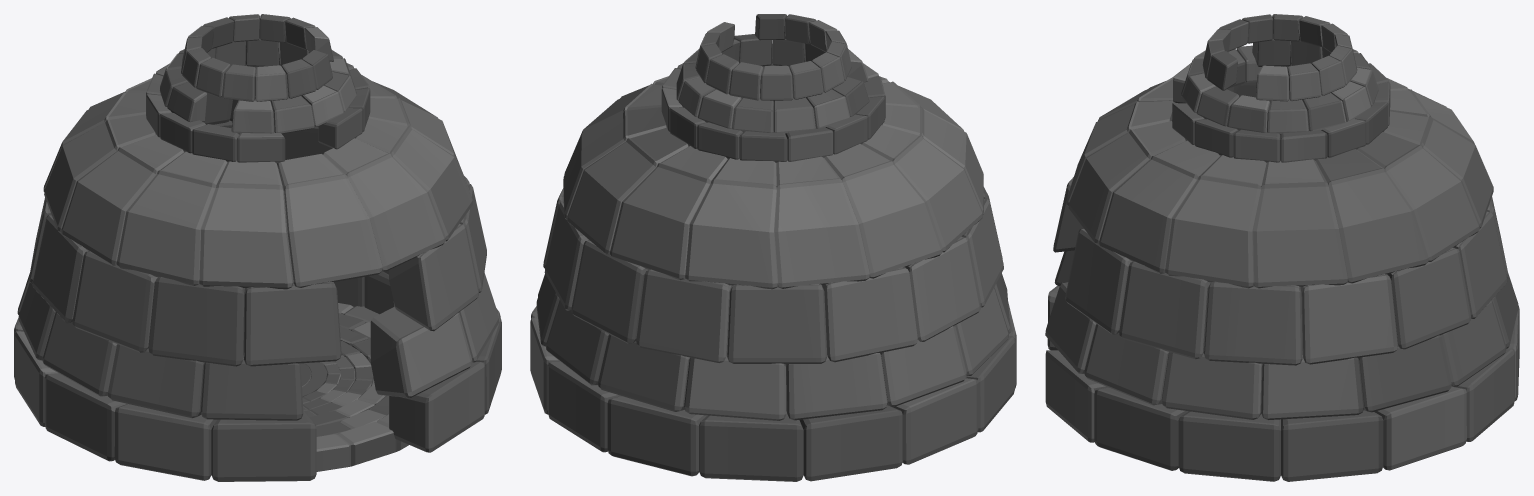
The model's file is restareafinal.fbx.
The picture shows the model from 3 angles, left to right: view 1: azimuth 30°, elevation 25°; view 2: azimuth 150°, elevation 25°; view 3: azimuth 270°, elevation 25°; orthographic projection.
Parts seen in each view (by area): view 1: Cube.009, Cube.010, Cube.002, Cube.008, Cube.013, Cube.012, Cube.011, Cube.003, Cube.005, Cube.004, Cube.006, Cube.007 (+2 smaller); view 2: Cube.009, Cube.010, Cube.002, Cube.008, Cube.012, Cube.013, Cube.011; view 3: Cube.009, Cube.010, Cube.002, Cube.008, Cube.012, Cube.011, Cube.013.
Part boxes in pixels (x1,y1,x2,y2): Cube.009: (43, 75, 472, 289); Cube.010: (29, 120, 486, 366); Cube.002: (14, 272, 501, 481); Cube.008: (17, 270, 499, 420); Cube.013: (181, 14, 333, 101); Cube.012: (160, 38, 356, 134); Cube.011: (146, 63, 370, 162); Cube.003: (316, 303, 408, 471); Cube.005: (309, 326, 386, 426); Cube.004: (316, 313, 388, 436); Cube.006: (304, 341, 373, 417); Cube.007: (303, 354, 355, 410); Cube.009: (563, 76, 983, 289); Cube.010: (543, 145, 1003, 363); Cube.002: (530, 303, 1016, 481); Cube.008: (536, 273, 1010, 420); Cube.012: (676, 34, 869, 133); Cube.013: (695, 14, 851, 100); Cube.011: (661, 44, 885, 162); Cube.009: (1066, 76, 1493, 288); Cube.010: (1053, 140, 1508, 365); Cube.002: (1045, 285, 1519, 481); Cube.008: (1045, 250, 1518, 419); Cube.012: (1181, 39, 1378, 134); Cube.011: (1172, 45, 1390, 162); Cube.013: (1202, 14, 1357, 101).
Bounding box in the file's own units: 132 × 105 × 129.
